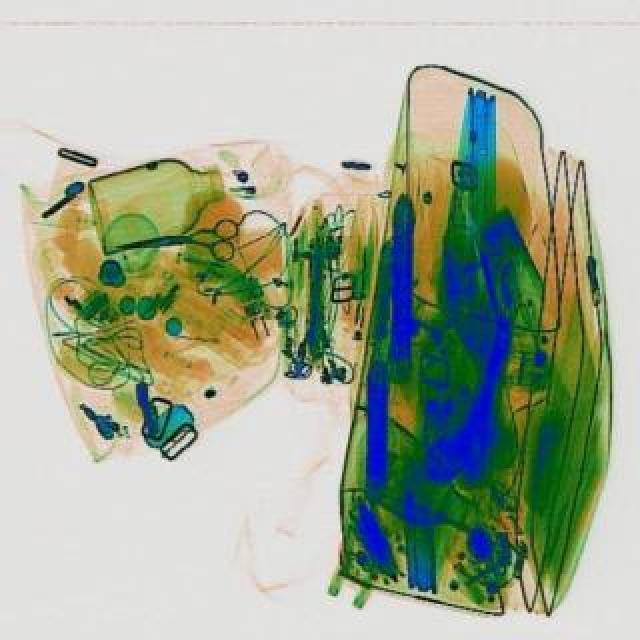pliers: (112, 218, 240, 266)
